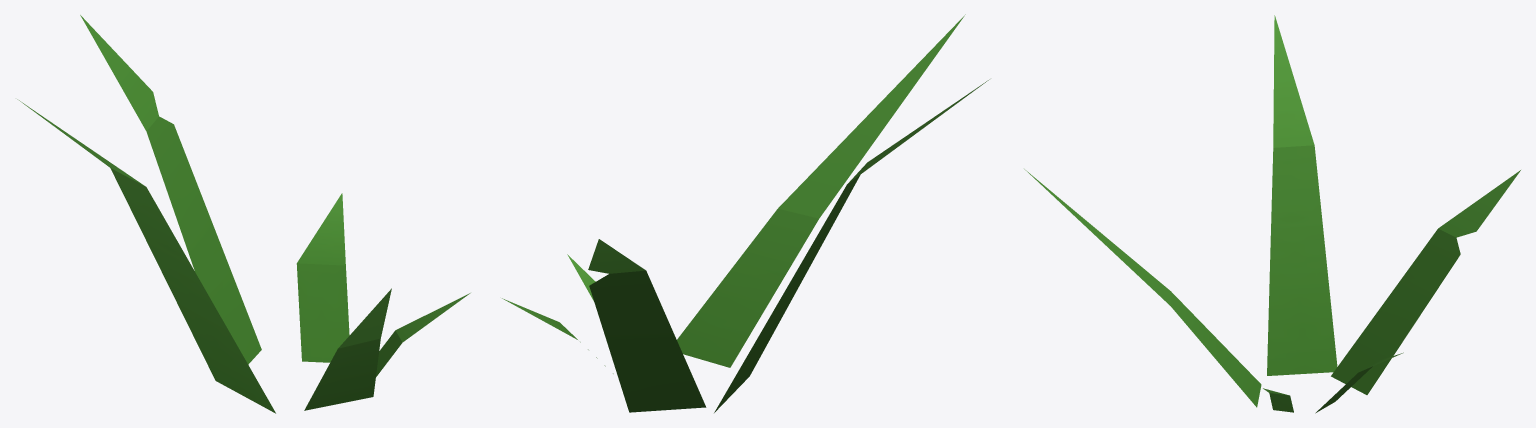
The model's file is grass_patch_05_singlesided.fbx.
3 renders of one model, left to right at view 1: azimuth 30°, elevation 25°; view 2: azimuth 150°, elevation 25°; view 3: azimuth 270°, elevation 25°, orthographic. The views are drawn at different scales.
Visible parts, largest first — view 1: grass_patch_05_singlesided; view 2: grass_patch_05_singlesided; view 3: grass_patch_05_singlesided.
Boxes of the visible parts, bbox=[...] form: grass_patch_05_singlesided: bbox=[17, 15, 470, 413]; grass_patch_05_singlesided: bbox=[502, 14, 989, 412]; grass_patch_05_singlesided: bbox=[1024, 15, 1520, 413].
Size of the model in its own units: 0.75 by 0.6 by 1.
1 material, 1 textured.
